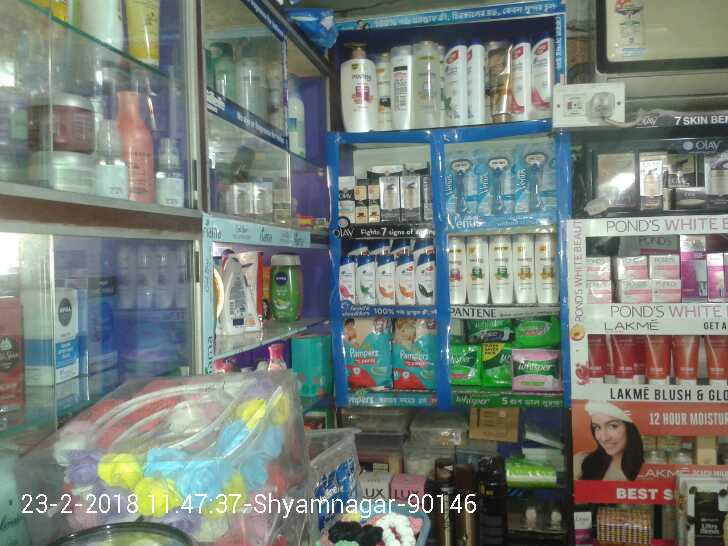venus: (514, 138, 556, 214), (478, 152, 514, 214), (447, 152, 478, 217)
